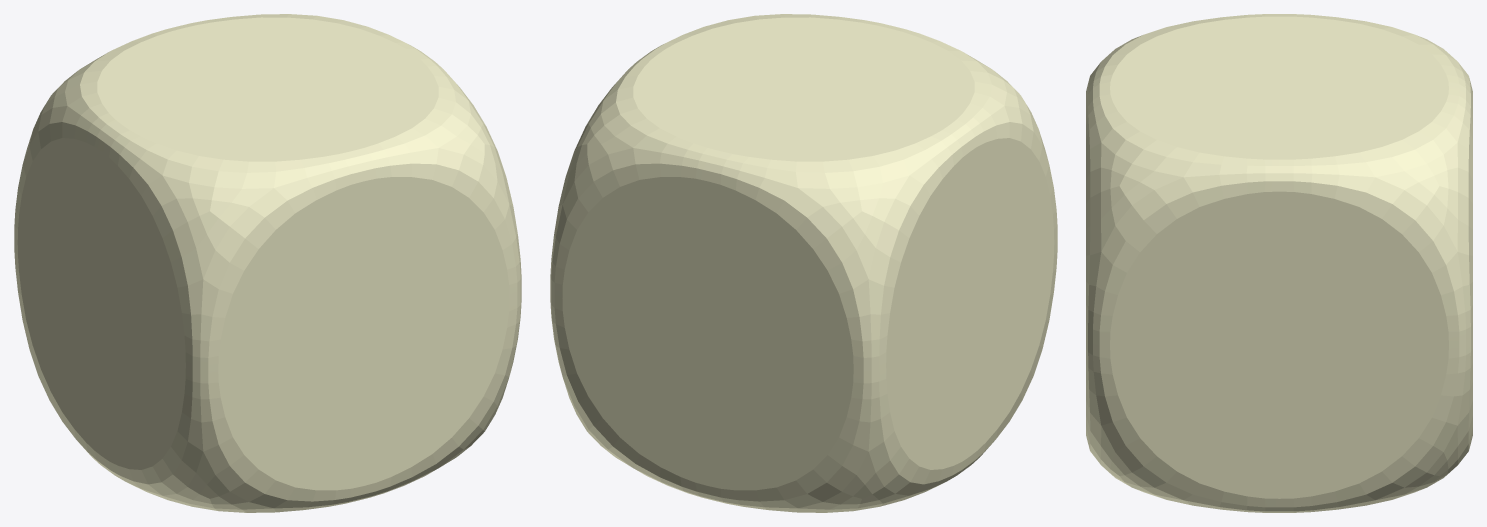
The model's file is DiceCollider.glb.
The picture shows the model from 3 angles, left to right: view 1: azimuth 30°, elevation 25°; view 2: azimuth 150°, elevation 25°; view 3: azimuth 270°, elevation 25°; orthographic projection.
Visible parts, largest first — view 1: DiceCollider; view 2: DiceCollider; view 3: DiceCollider.
Part boxes in pixels (x1=…): DiceCollider: x1=14, y1=14, x2=521, y2=512; DiceCollider: x1=550, y1=14, x2=1057, y2=512; DiceCollider: x1=1086, y1=14, x2=1472, y2=512.
Bounding box in the file's own units: 0.5 × 0.5 × 0.5.
